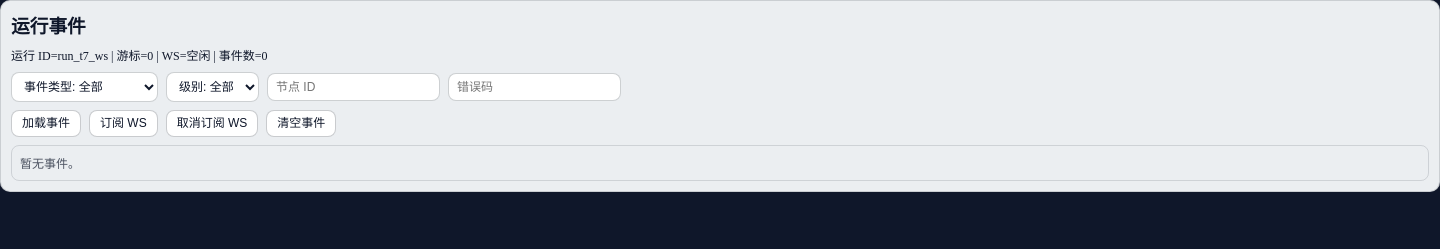
it: RuntimeConsolePanel › receives ws events and handles invalid ws payload (edge path)
Click the button "订阅 WS" at (123, 124), box [89,110,158,137]
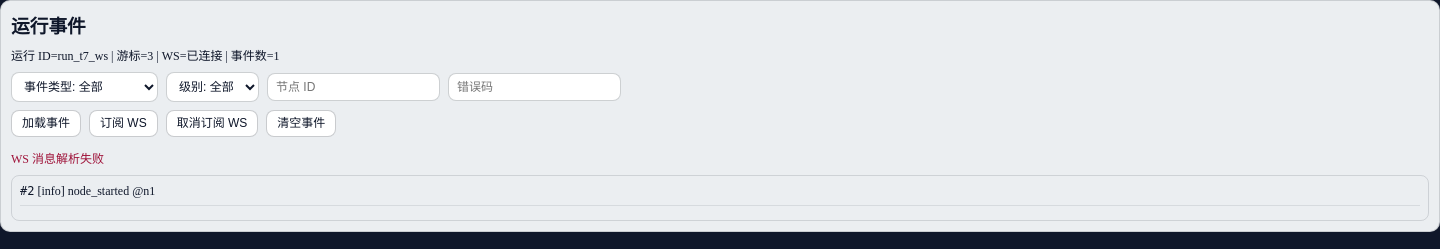
Check: the text with test id "runtime-console-error" reads "WS 消息解析失败", box [11,152,104,166]
